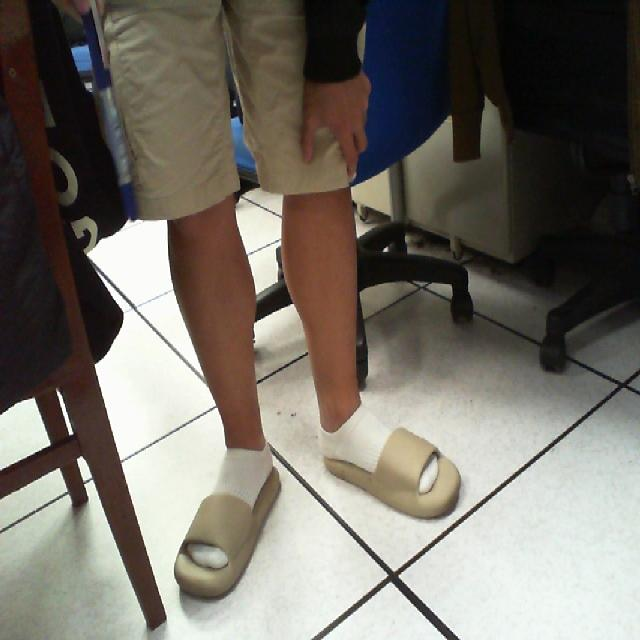Pen: (64, 0, 152, 240)
